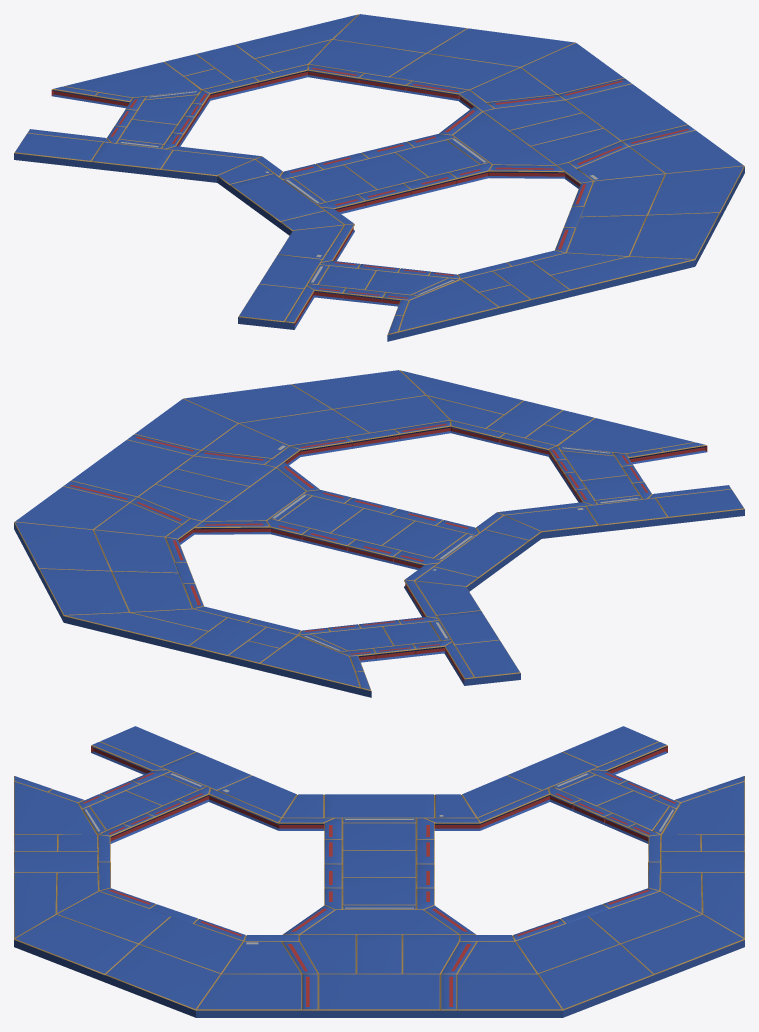
File: SM_Floor_Main.fbx
The picture shows the model from 3 angles, top to bottom: view 1: azimuth 30°, elevation 25°; view 2: azimuth 150°, elevation 25°; view 3: azimuth 270°, elevation 25°; orthographic projection. The views are drawn at different scales.
Parts seen in each view (by area): view 1: SM_Floor_Main; view 2: SM_Floor_Main; view 3: SM_Floor_Main.
Part boxes in pixels (x1,y1,x2,y2): SM_Floor_Main: (14,14,744,341); SM_Floor_Main: (14,370,744,697); SM_Floor_Main: (14,726,744,1017).
Size of the model in its own units: 6815 by 91.53 by 7408.
